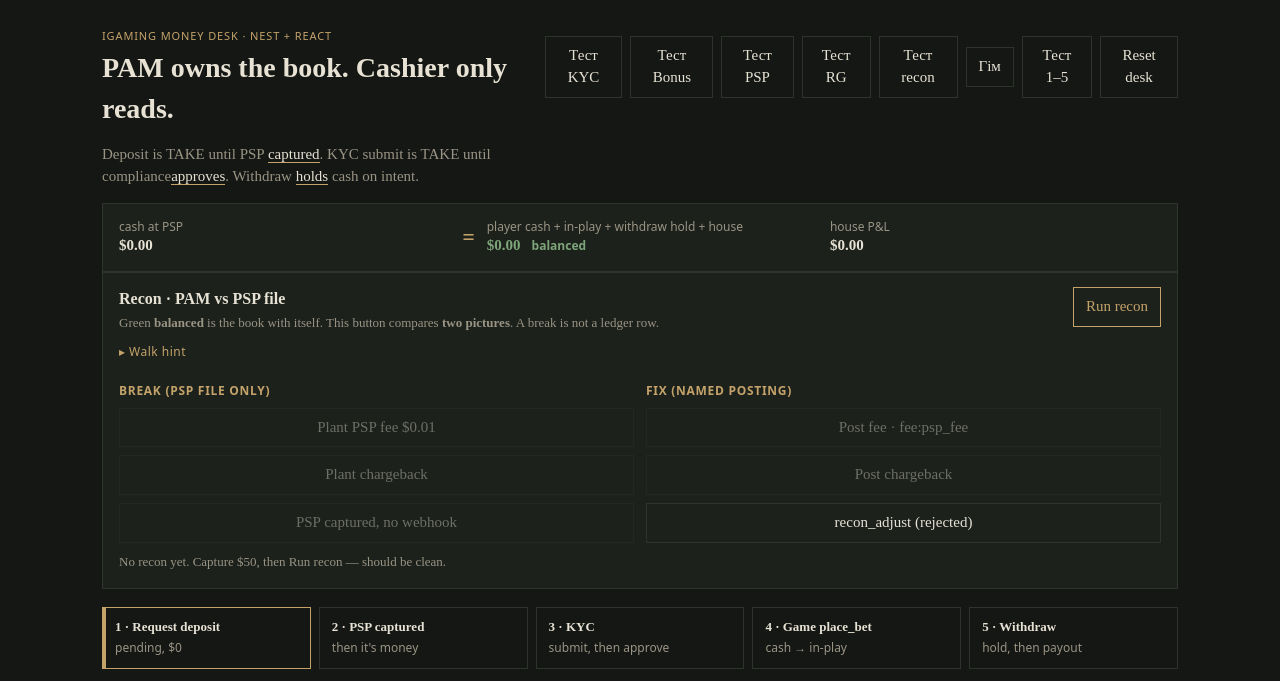
Scenario: walk hint stays closed until opened
The image size is (1280, 681).
Click the heading "Walk hint" at (158, 351), box [129, 343, 186, 360]
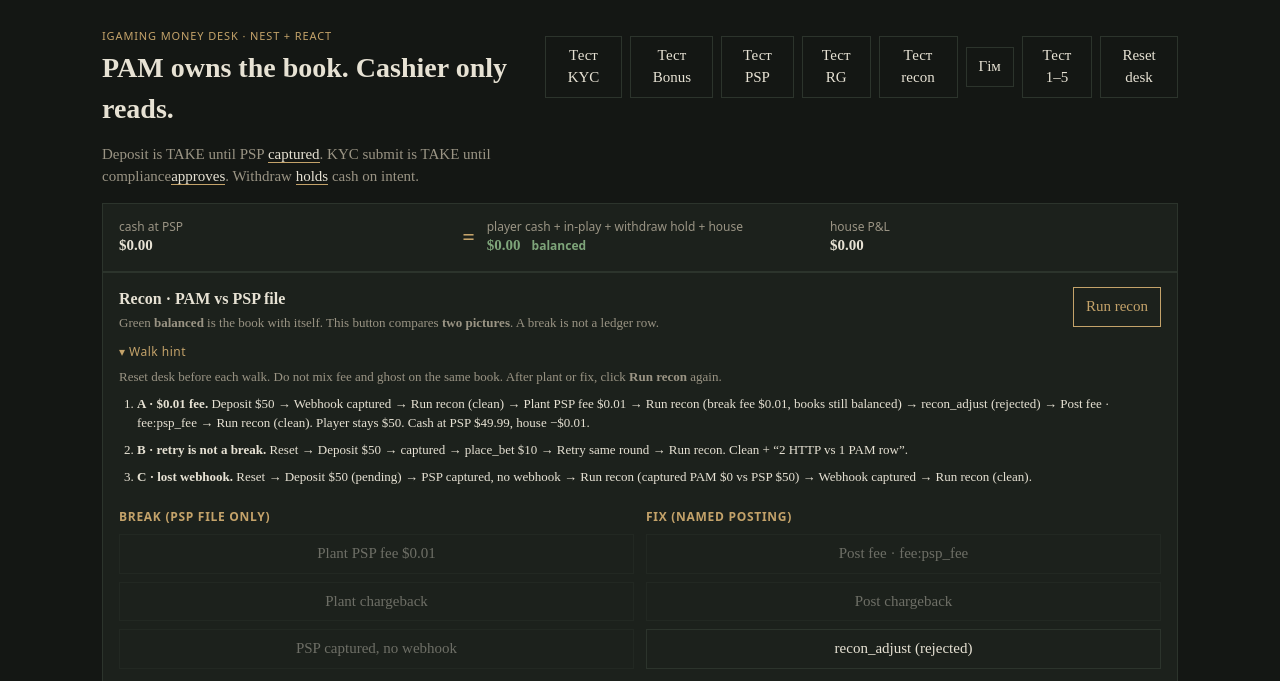
Expected: the element with test id "recon-walk-hint" shows "A · $0.01 fee", [137, 396, 208, 411]
